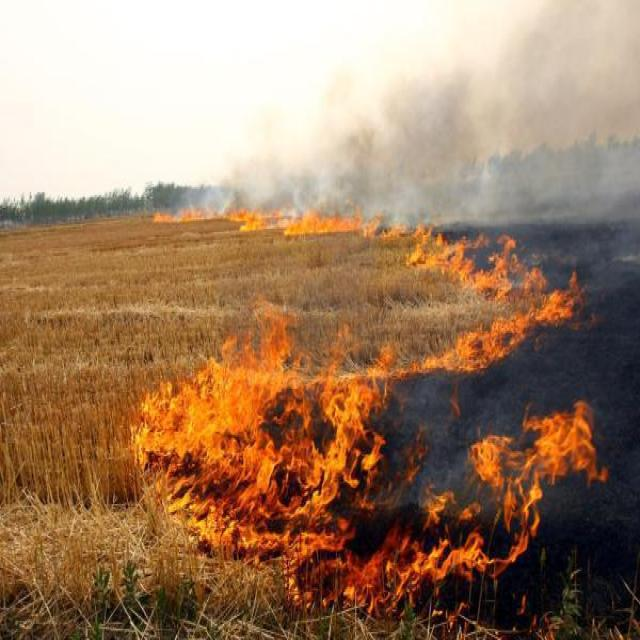fire: (109, 317, 598, 609), (403, 218, 572, 370), (142, 195, 396, 249)
